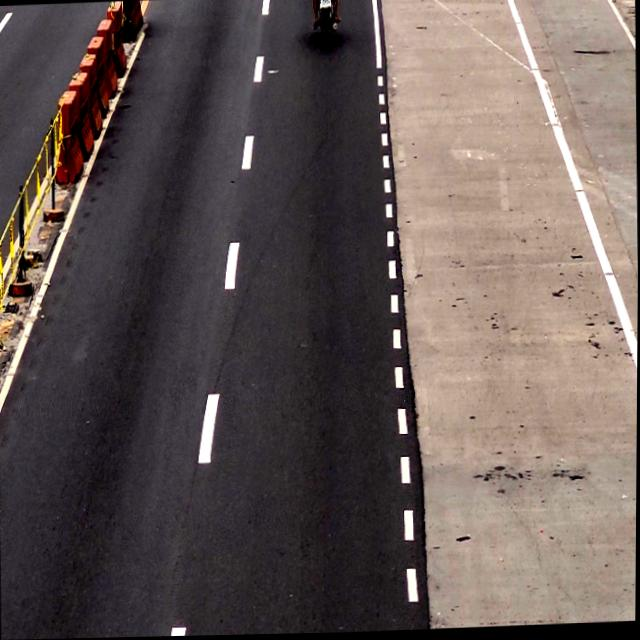Motorcycle: (312, 0, 338, 52)
